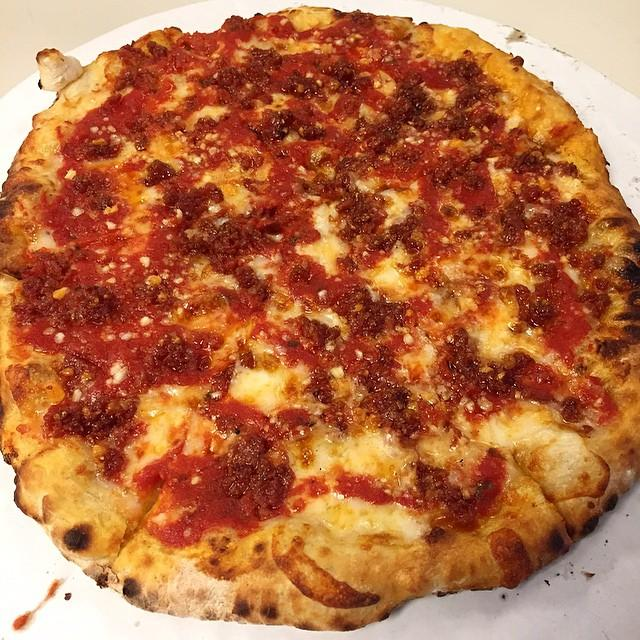pizza: (0, 8, 640, 630)
